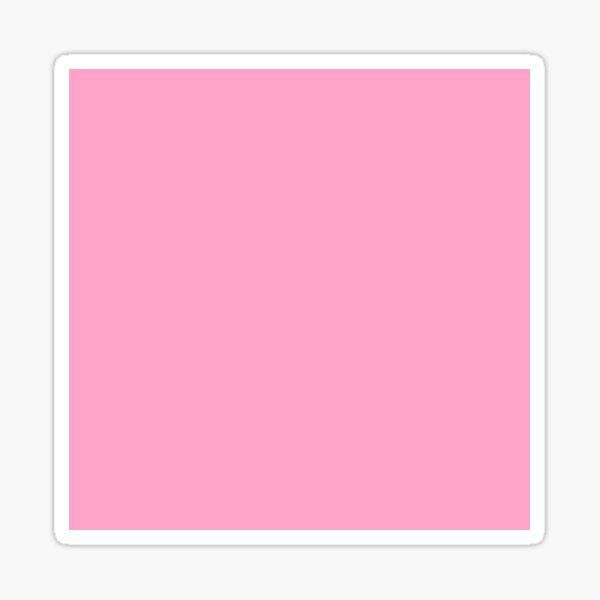pink_zone: (55, 53, 545, 543)
